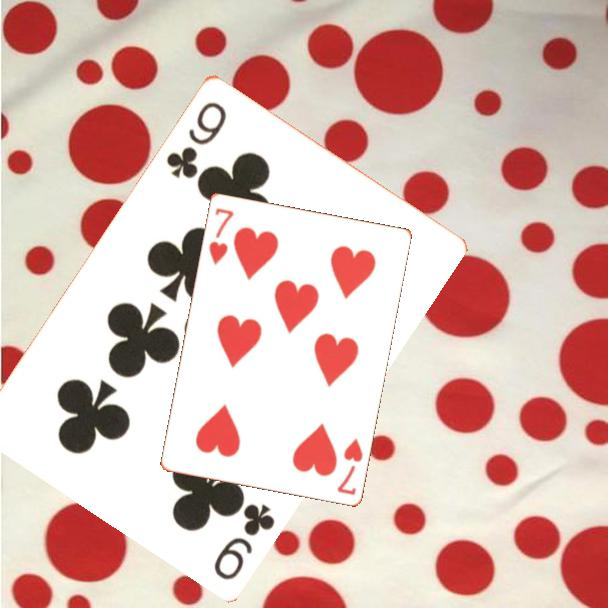c09: (162, 97, 230, 181), (210, 499, 278, 583)
h07: (333, 434, 365, 498), (205, 204, 236, 268)
